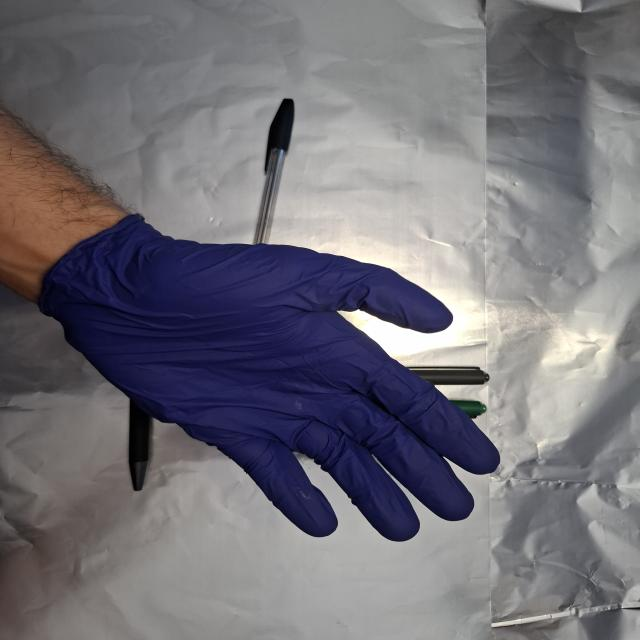glove_on: (29, 213, 503, 544)
